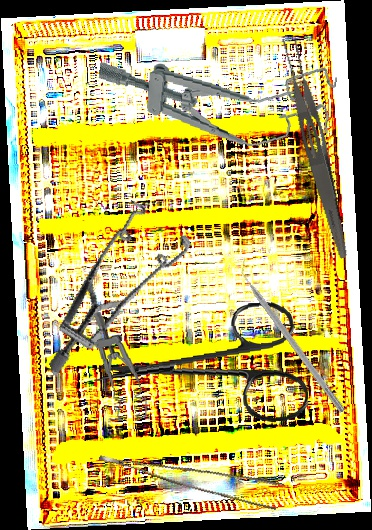Chopper: (233, 256, 353, 414)
Dressing Forceps: (276, 34, 359, 261)
Iris Scissors: (88, 298, 310, 438)
Speculum: (6, 186, 218, 378), (93, 44, 338, 155), (92, 309, 148, 423)
Tissue Forceps: (98, 424, 285, 520)
